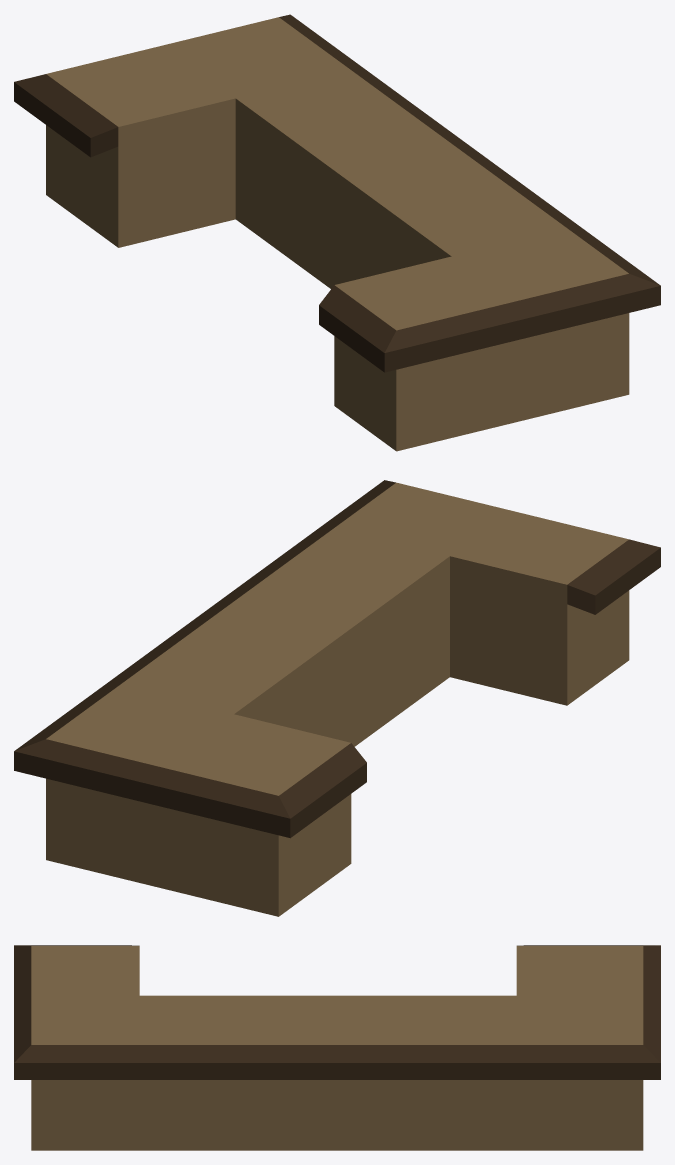
File: hotel counter.fbx
The picture shows the model from 3 angles, top to bottom: view 1: azimuth 30°, elevation 25°; view 2: azimuth 150°, elevation 25°; view 3: azimuth 270°, elevation 25°; orthographic projection. The views are drawn at different scales.
Parts seen in each view (by area): view 1: Hotel counter; view 2: Hotel counter; view 3: Hotel counter.
Boxes of the visible parts, x1=… form: Hotel counter: x1=14, y1=14, x2=660, y2=451; Hotel counter: x1=14, y1=480, x2=660, y2=916; Hotel counter: x1=14, y1=945, x2=660, y2=1150.
Size of the model in its own units: 6.69 by 2.8 by 15.53.
